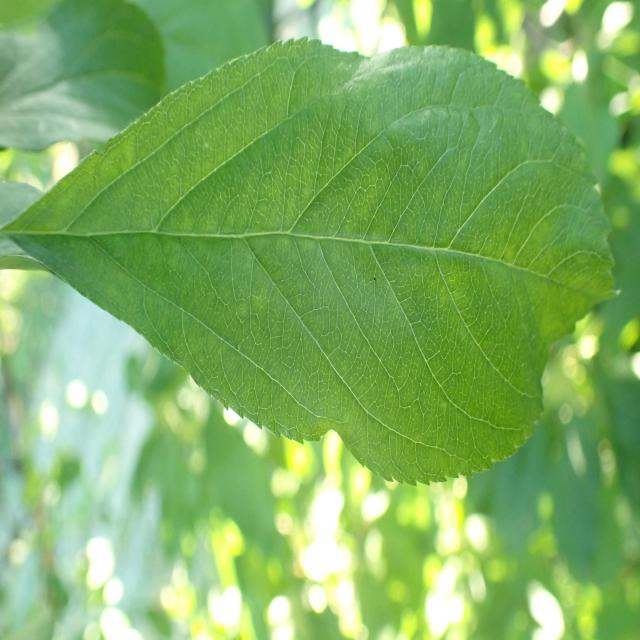healthy: (2, 37, 622, 488), (0, 0, 167, 153)
